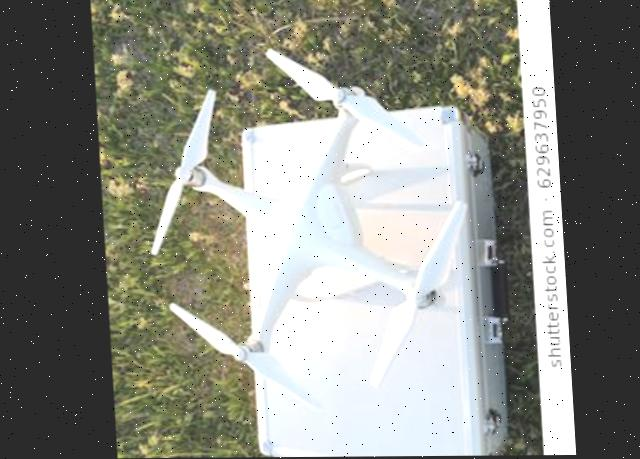drone: (236, 0, 570, 458)
